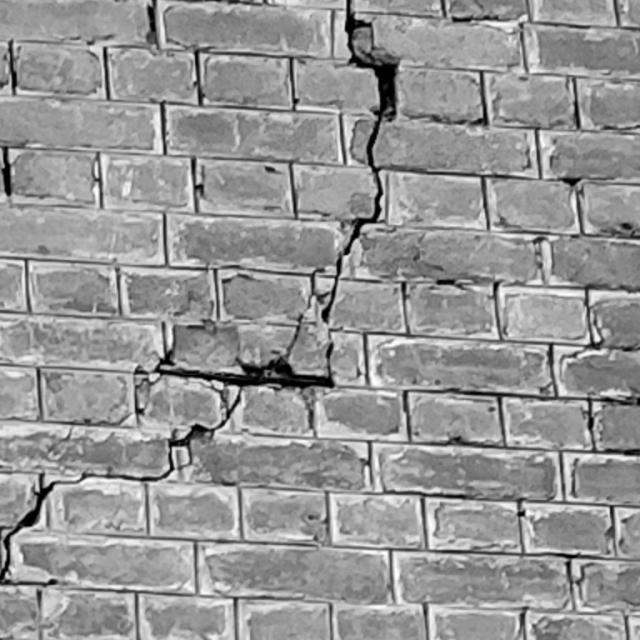crack: (1, 1, 401, 587)
